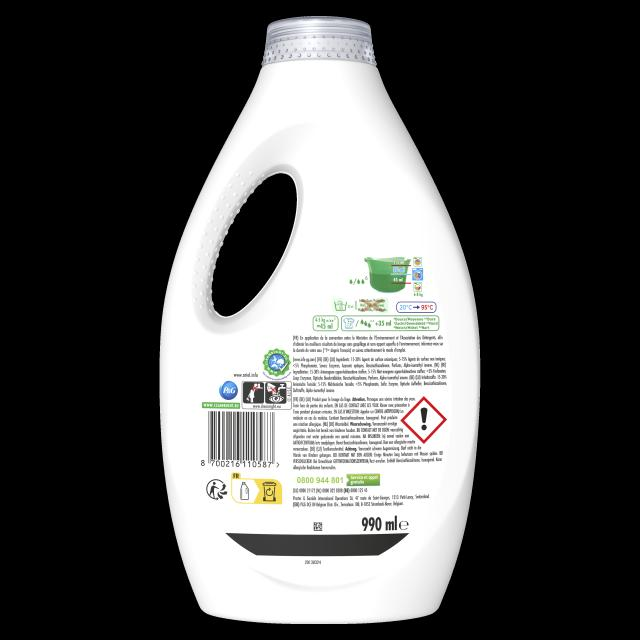GHS_Symbol_EXCLAMATION_MARK: (401, 396, 446, 444)
